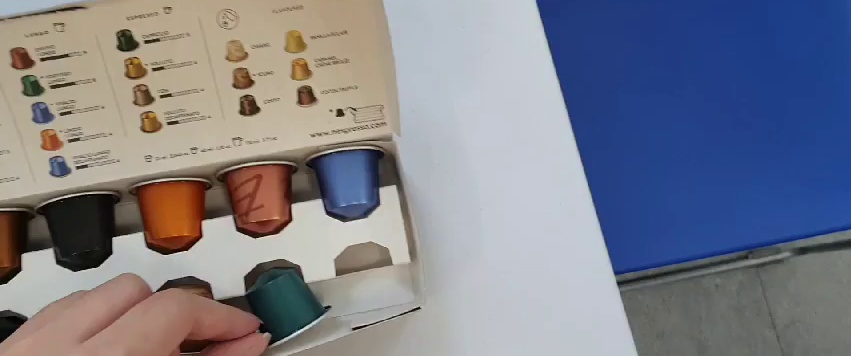capsule_13: (243, 262, 334, 350)
